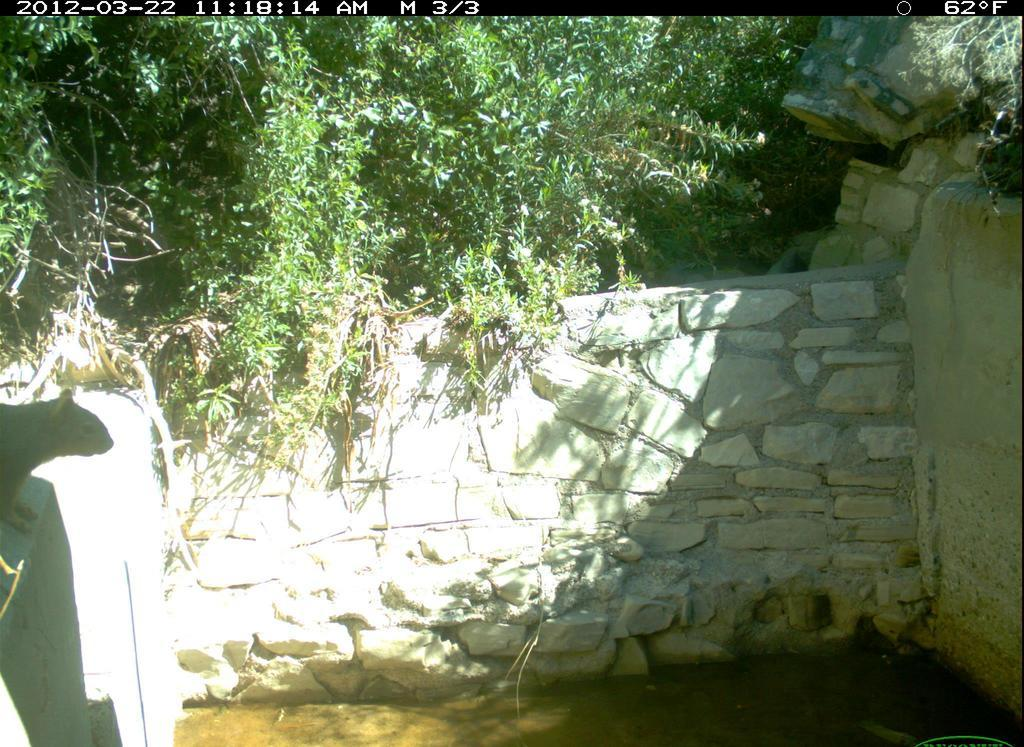squirrel: (1, 386, 120, 539)
